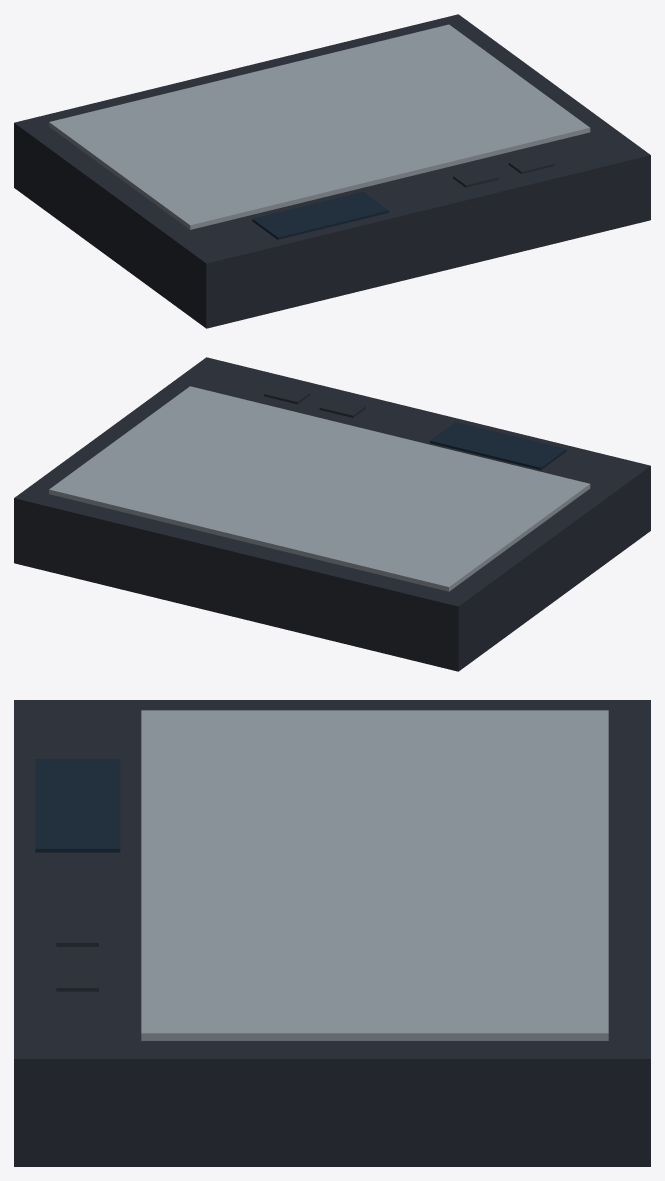
The model's file is scale-bench-5kg.glb.
3 views of the same model, one above another, from view 1: azimuth 30°, elevation 25°; view 2: azimuth 150°, elevation 25°; view 3: azimuth 270°, elevation 25° (orthographic). The views are drawn at different scales.
Visible parts, largest first — view 1: scale_base, scale_platform, scale_display, scale_buttons; view 2: scale_base, scale_platform, scale_display, scale_buttons; view 3: scale_platform, scale_base, scale_display, scale_buttons.
Boxes of the visible parts, x1=… form: scale_base: x1=14, y1=14, x2=650, y2=328; scale_platform: x1=49, y1=24, x2=590, y2=229; scale_display: x1=252, y1=192, x2=388, y2=239; scale_buttons: x1=453, y1=154, x2=554, y2=187; scale_base: x1=14, y1=357, x2=650, y2=671; scale_platform: x1=49, y1=386, x2=590, y2=591; scale_display: x1=430, y1=422, x2=566, y2=469; scale_buttons: x1=264, y1=384, x2=365, y2=417; scale_platform: x1=141, y1=710, x2=608, y2=1040; scale_base: x1=14, y1=700, x2=650, y2=1166; scale_display: x1=35, y1=759, x2=120, y2=852; scale_buttons: x1=56, y1=916, x2=98, y2=991.
Size of the model in its own units: 0.2 by 0.03 by 0.15.
